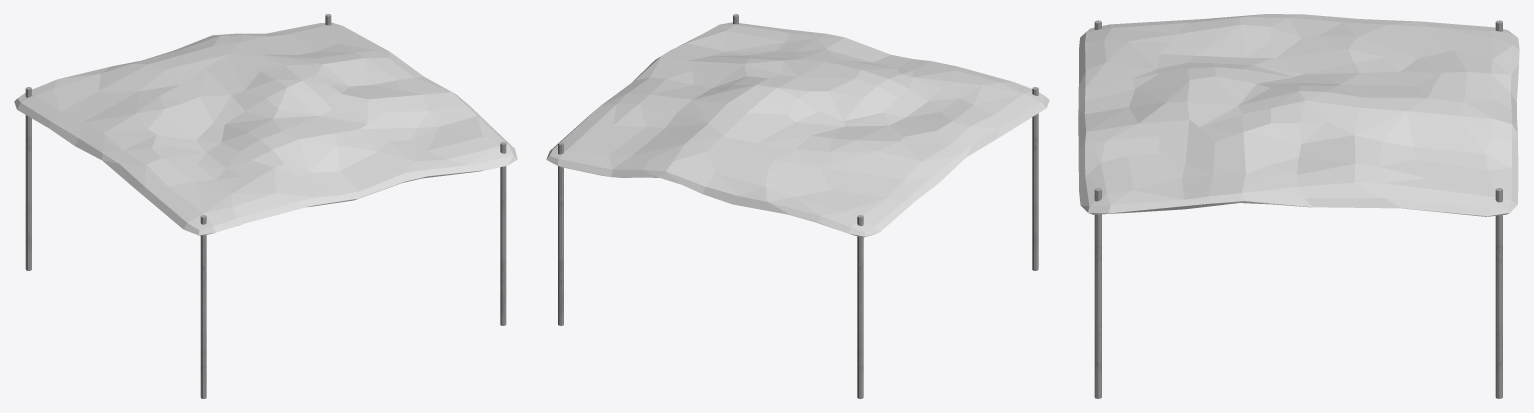
The model's file is naves ulica.fbx.
3 renders of one model, left to right at view 1: azimuth 30°, elevation 25°; view 2: azimuth 150°, elevation 25°; view 3: azimuth 270°, elevation 25°, orthographic. The views are drawn at different scales.
Parts seen in each view (by area): view 1: Крыша улица; view 2: Крыша улица; view 3: Крыша улица.
Boxes of the visible parts, x1=… form: Крыша улица: x1=14, y1=14, x2=517, y2=398; Крыша улица: x1=546, y1=14, x2=1049, y2=398; Крыша улица: x1=1078, y1=14, x2=1519, y2=398.
Size of the model in its own units: 5.53 by 3.25 by 5.53.
